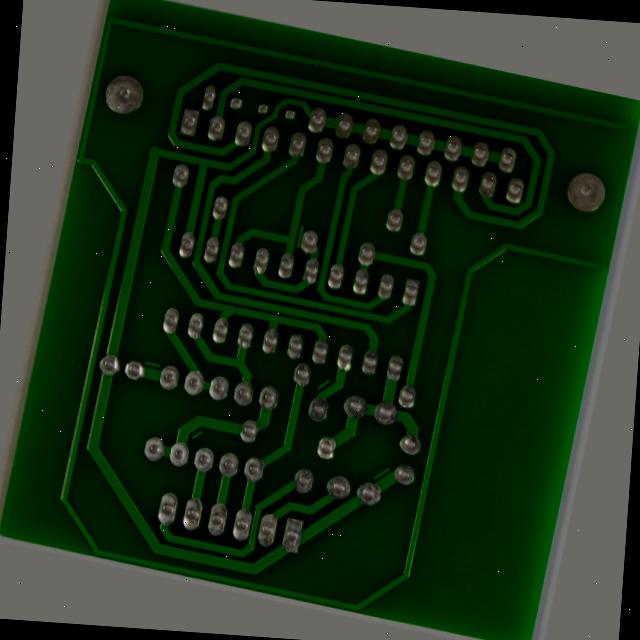spurious_copper: (272, 211, 297, 249), (395, 466, 425, 495), (121, 386, 151, 405), (320, 378, 342, 403), (188, 457, 206, 477)
